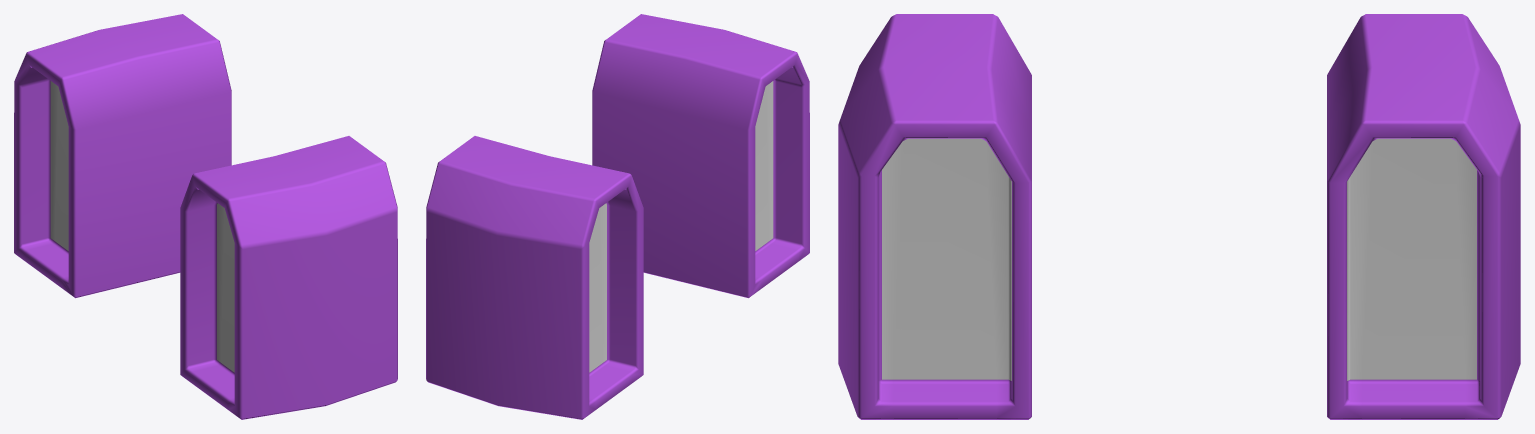
The model's file is SM_Bobble_Beacon.fbx.
3 renders of one model, left to right at view 1: azimuth 30°, elevation 25°; view 2: azimuth 150°, elevation 25°; view 3: azimuth 270°, elevation 25°, orthographic. The views are drawn at different scales.
Parts seen in each view (by area): view 1: BeaconModel; view 2: BeaconModel; view 3: BeaconModel.
Boxes of the visible parts, bbox=[...] form: BeaconModel: bbox=[14, 14, 397, 419]; BeaconModel: bbox=[426, 14, 809, 419]; BeaconModel: bbox=[838, 14, 1520, 419].
Size of the model in its own units: 7.22 by 19.08 by 9.25.
